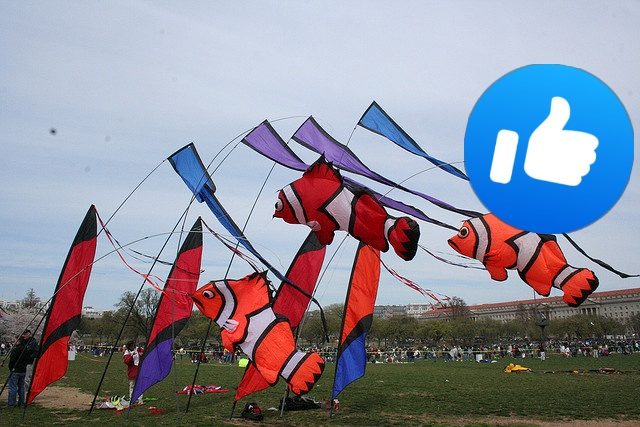like: (464, 64, 634, 234)
